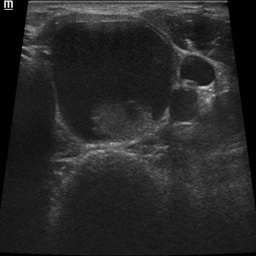mass: (44, 21, 174, 142)
